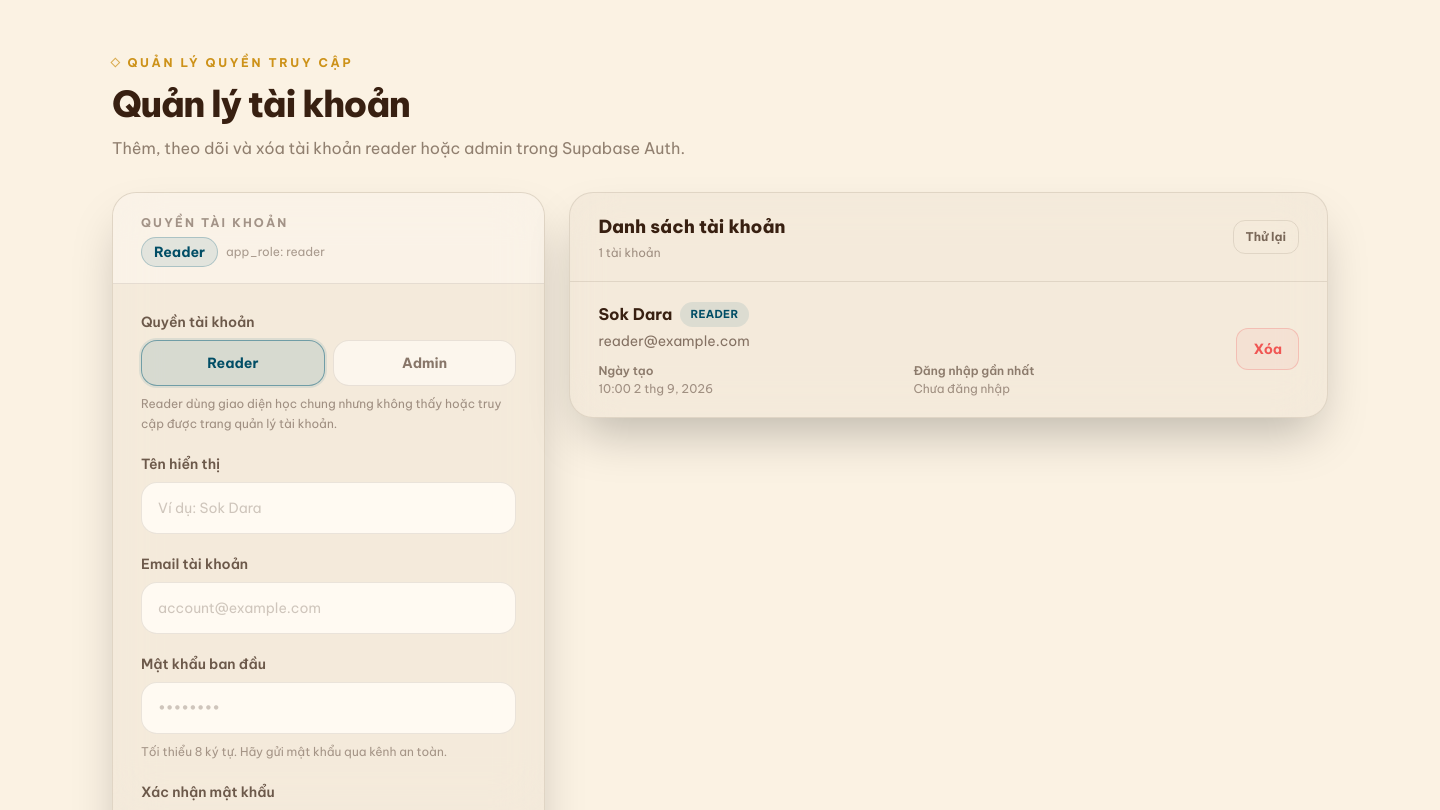
Test: ReaderAccountsPage › loads accounts and requires confirmation before deleting one
Expected: the text "Sok Dara" is shown, [598, 302, 672, 326]
Click the button with aria-label "Xóa reader@example.com".
click(1268, 349)  # box [1236, 328, 1299, 370]
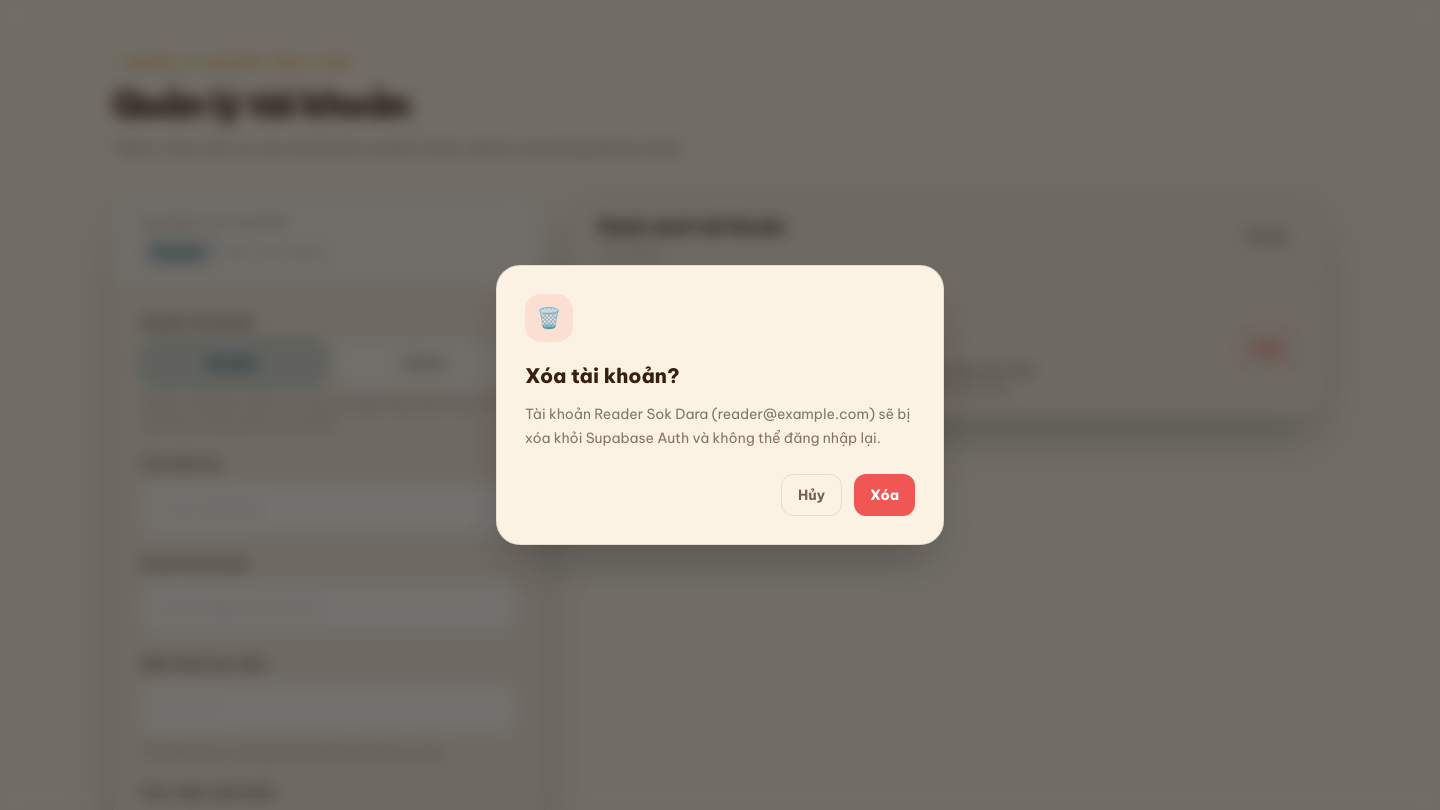
Click the button "Xóa".
click(885, 495)  # box [854, 474, 915, 516]
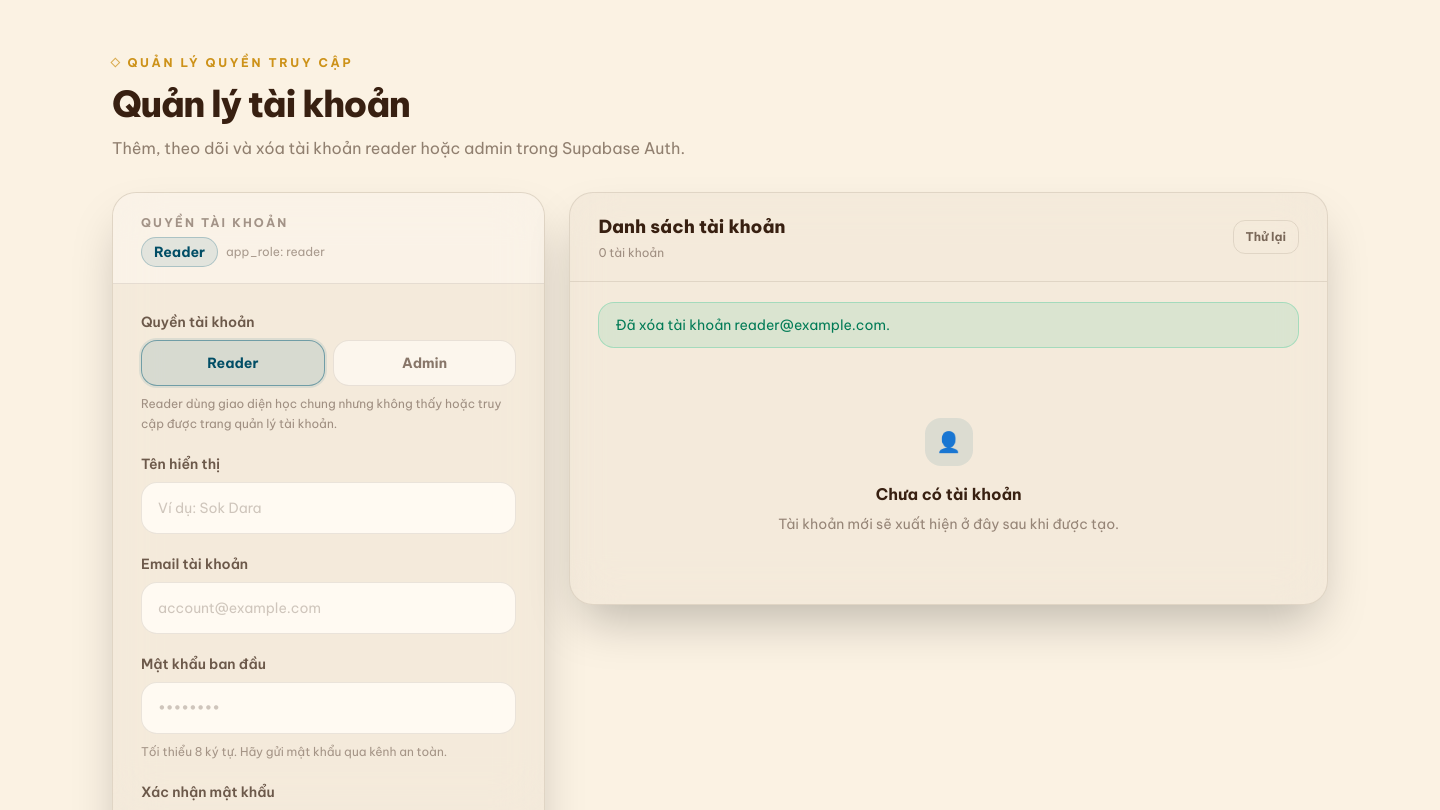
Result: the text "Đã xóa tài khoản reader@example.com." is shown at [598, 302, 1299, 348]
